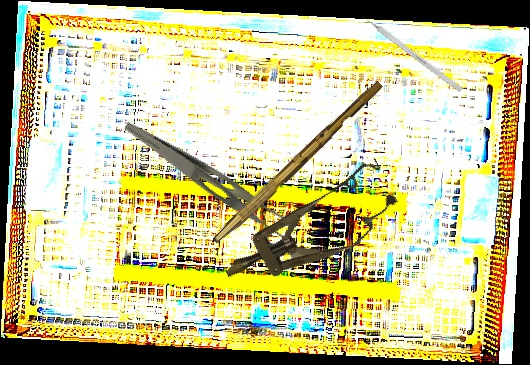Dressing Forceps: (112, 120, 309, 249)
Hook Surgical: (357, 11, 464, 93)
Scalpel Handle: (211, 76, 385, 250)
Speculum: (210, 155, 407, 306)
